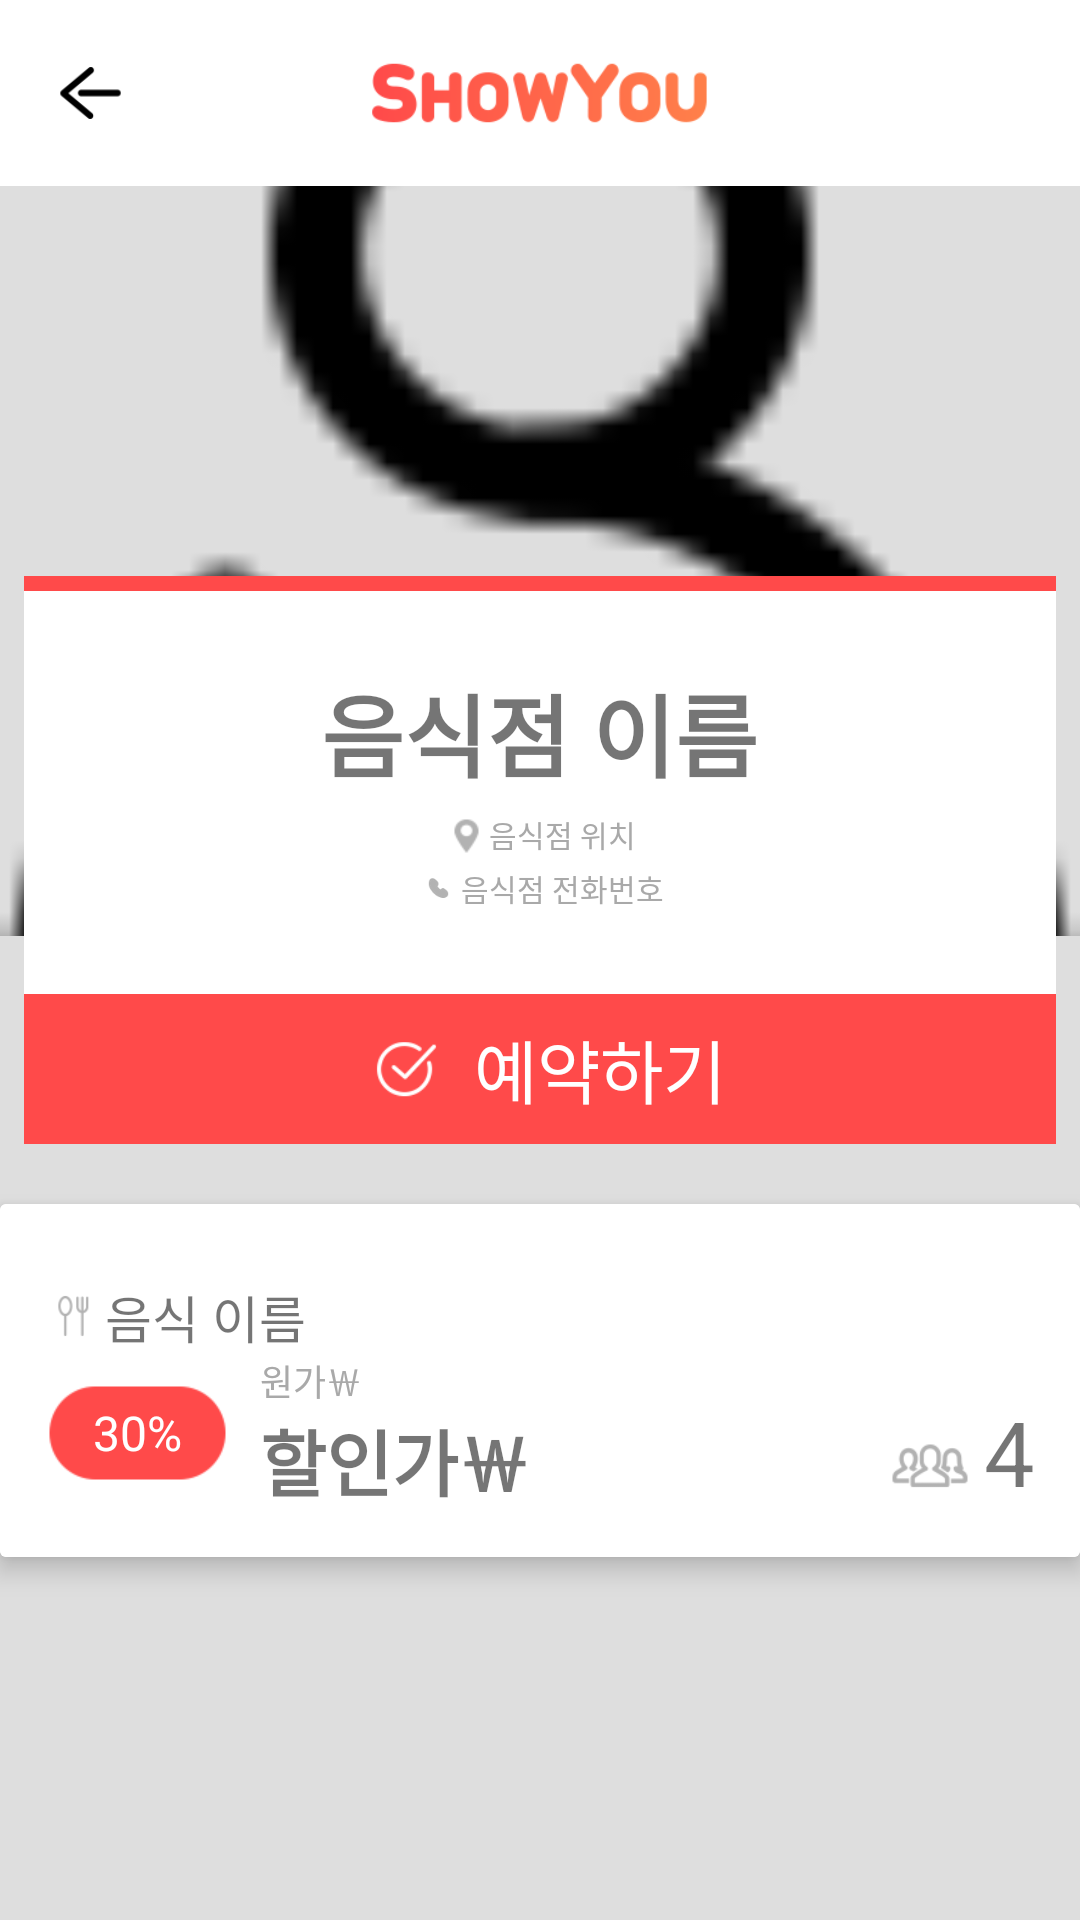

Icon bounding boxes for this 1080*1920 phone screenshot, format (x1, y1, x2, y2):
left arrow: (60, 67, 121, 119)
reservation: (377, 1042, 436, 1097)
spoon: (58, 1296, 89, 1336)
spot: (454, 819, 479, 852)
